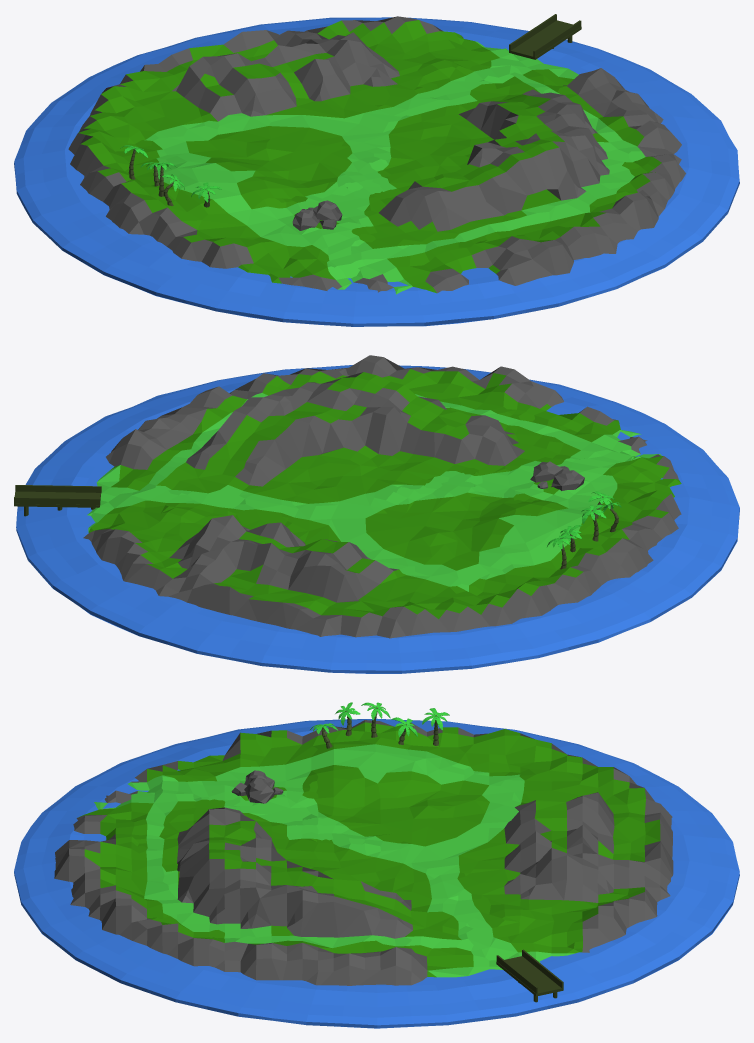
The model's file is mapTestRTS_1.2.fbx.
The picture shows the model from 3 angles, top to bottom: view 1: azimuth 30°, elevation 25°; view 2: azimuth 150°, elevation 25°; view 3: azimuth 270°, elevation 25°; orthographic projection.
Visible parts, largest first — view 1: land, water, bridge; view 2: land, water, bridge, rock_1; view 3: land, water, bridge, rock_2.
Boxes of the visible parts, x1,y1,x2,y2 form: land: (68,16,685,294); water: (14,17,739,326); bridge: (509,14,581,59); land: (83,355,681,638); water: (16,365,739,673); bridge: (14,485,101,516); rock_1: (551,470,584,490); land: (54,720,673,985); water: (14,718,739,1028); bridge: (496,949,563,1002); rock_2: (244,777,274,803).
Bounding box in the file's own units: 17064 × 1711 × 17072.
